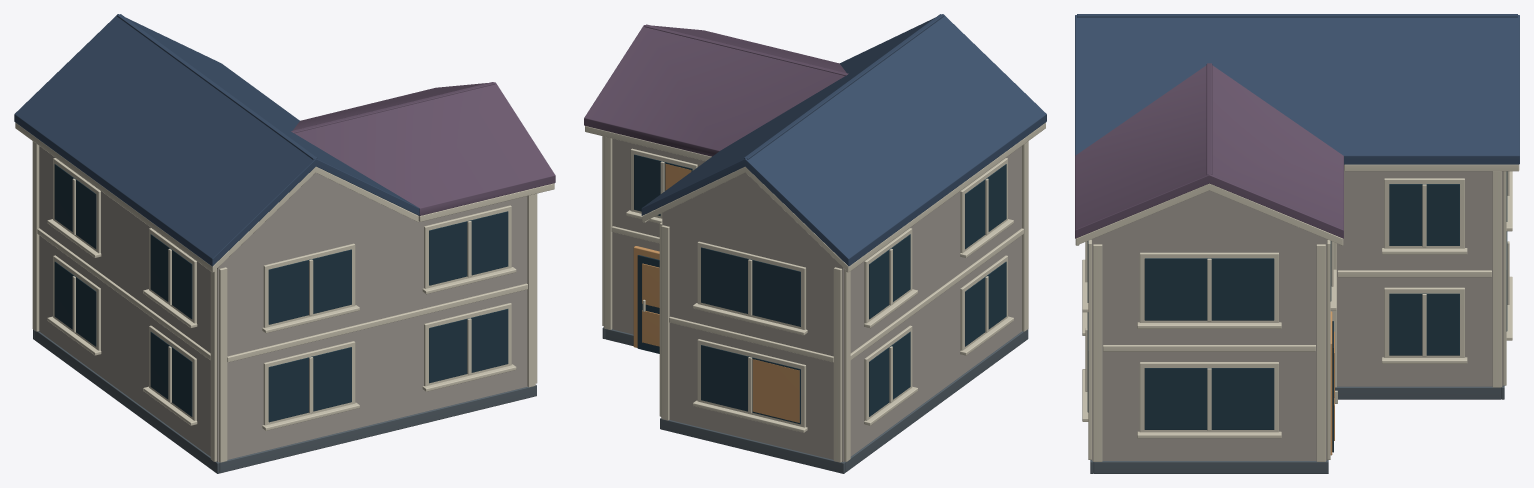
File: d02_house_family_04.glb
3 renders of one model, left to right at view 1: azimuth 30°, elevation 25°; view 2: azimuth 150°, elevation 25°; view 3: azimuth 270°, elevation 25°, orthographic. The views are drawn at different scales.
Visible parts, largest first — view 1: D02HouseFamily04_Mesh; view 2: D02HouseFamily04_Mesh; view 3: D02HouseFamily04_Mesh.
Part boxes in pixels (x1=…): D02HouseFamily04_Mesh: x1=14, y1=14, x2=555, y2=473; D02HouseFamily04_Mesh: x1=584, y1=14, x2=1046, y2=473; D02HouseFamily04_Mesh: x1=1075, y1=14, x2=1519, y2=473.
Bounding box in the file's own units: 9.1 × 7.55 × 9.1.
